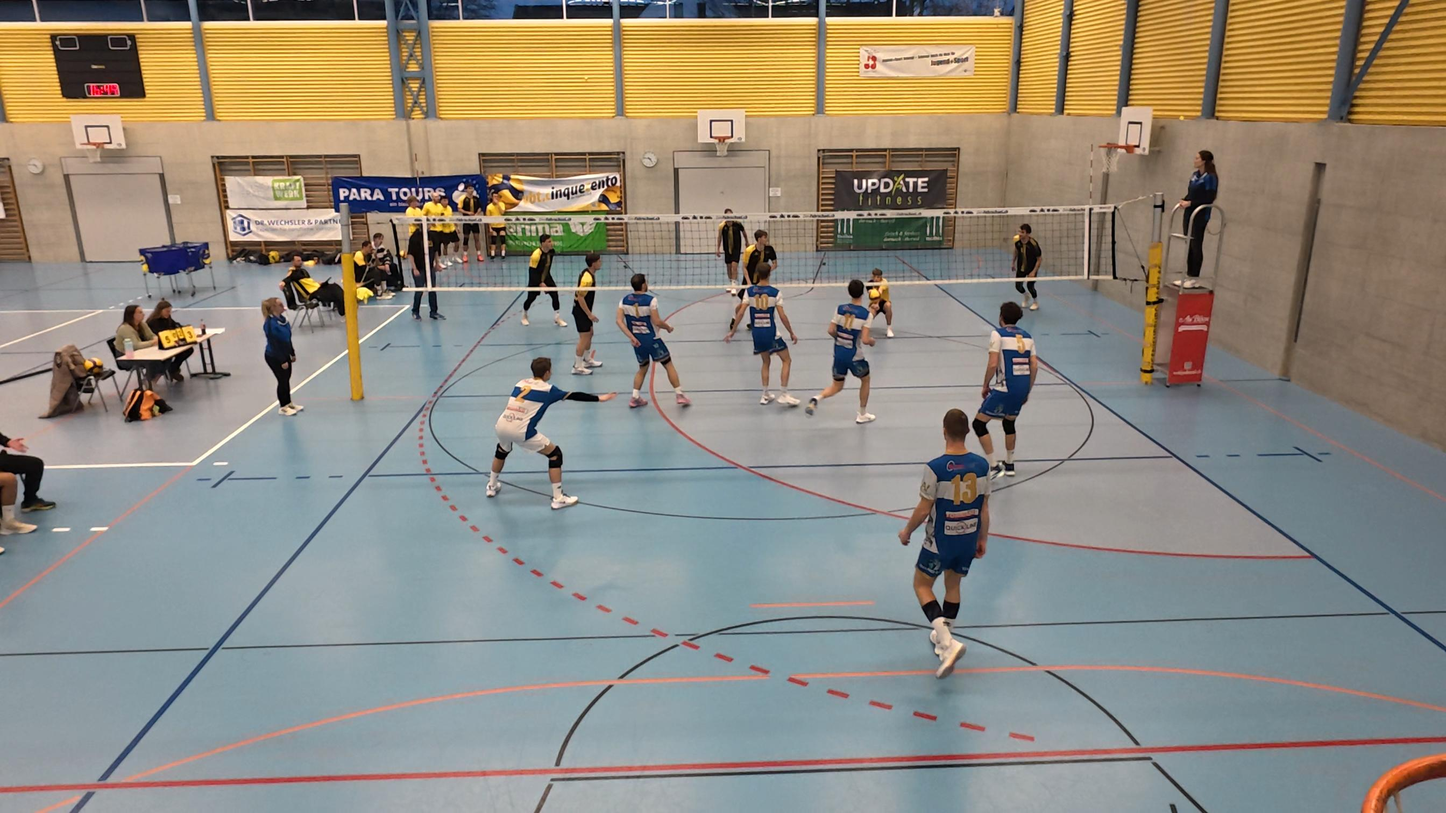Dig: (861, 269, 898, 347)
Player: (900, 409, 991, 675), (484, 357, 609, 509), (973, 302, 1039, 479), (621, 273, 689, 410), (802, 305, 873, 423), (739, 270, 798, 406), (511, 227, 563, 327), (570, 255, 607, 374), (713, 210, 749, 302), (1011, 222, 1044, 311), (745, 234, 781, 302)
ball: (866, 285, 886, 304)
